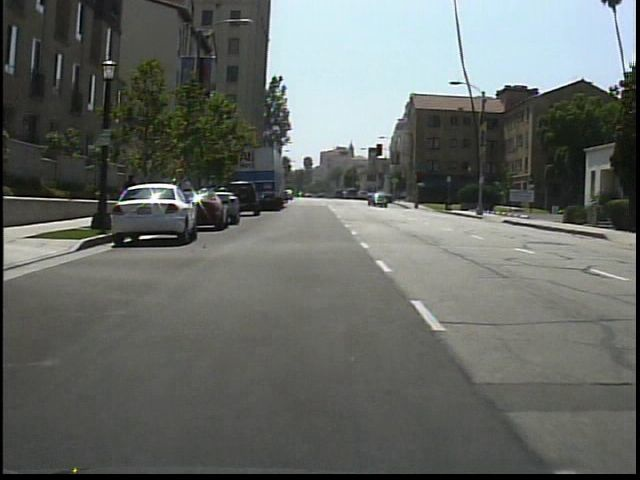person: (122, 167, 141, 218)
